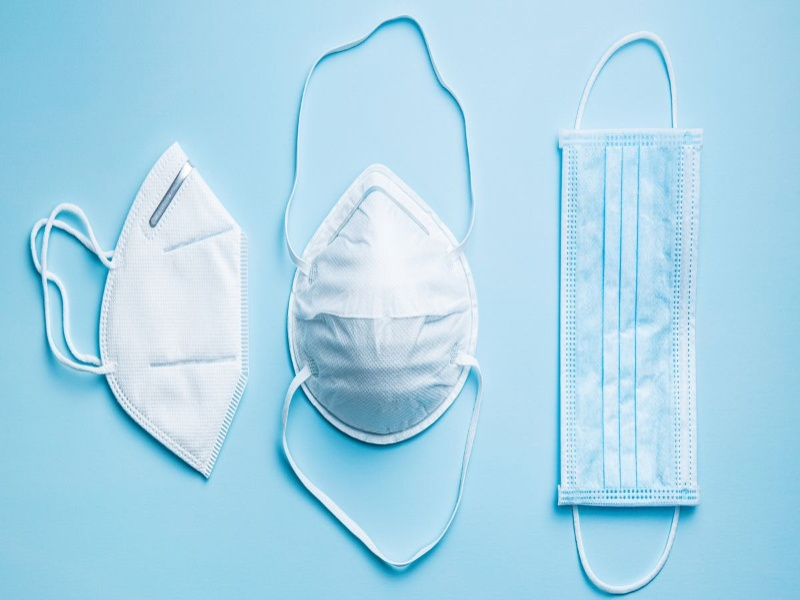mask: (556, 127, 703, 510), (97, 138, 258, 487), (287, 161, 482, 448)
